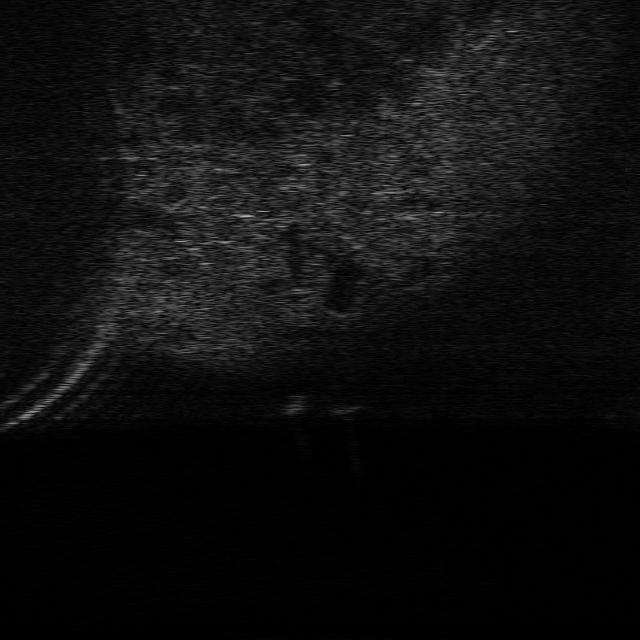cube: (325, 392, 364, 414)
cylinder: (280, 393, 309, 415)
